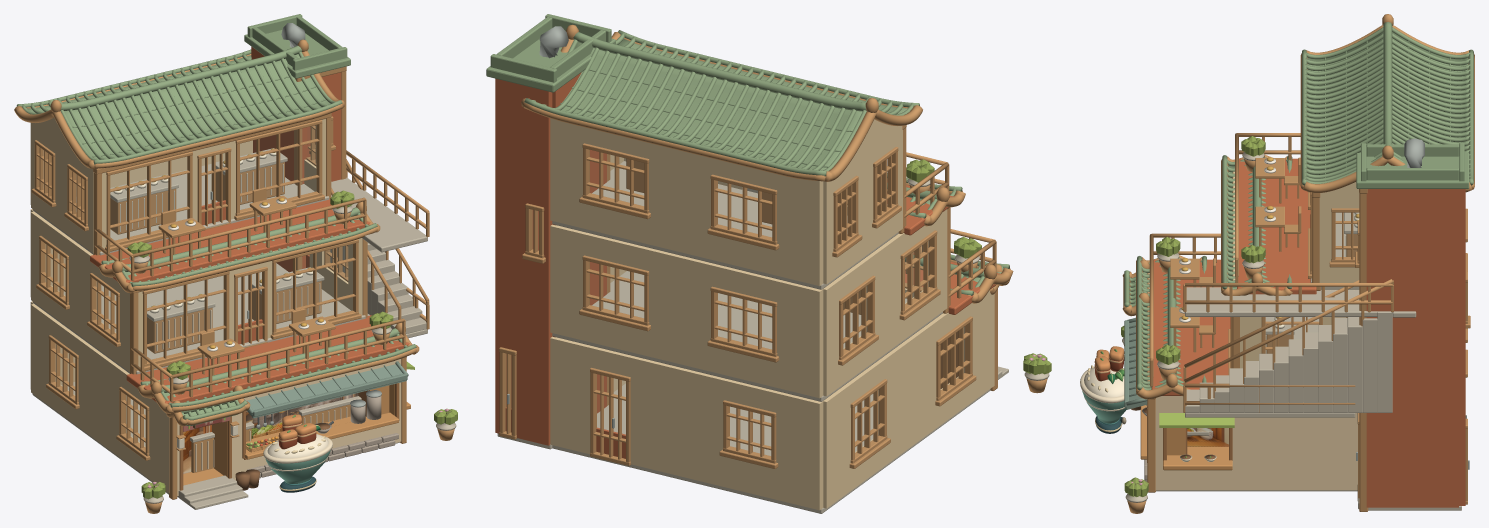
3 views of the same model, side by side, from view 1: azimuth 30°, elevation 25°; view 2: azimuth 150°, elevation 25°; view 3: azimuth 270°, elevation 25° (orthographic). The views are drawn at different scales.
Parts seen in each view (by area): view 1: SM_06_01_建筑墙体, SM_06_04_门窗楼梯, SM_06_02_曲面屋顶, SM_06_06_景观设施, SM_06_03_木构回廊, SM_06_06_门前充气招牌, SM_06_05_景观植物; view 2: SM_06_01_建筑墙体, SM_06_02_曲面屋顶, SM_06_04_门窗楼梯, SM_06_05_景观植物, SM_06_06_景观设施, SM_06_03_木构回廊; view 3: SM_06_01_建筑墙体, SM_06_02_曲面屋顶, SM_06_04_门窗楼梯, SM_06_06_景观设施, SM_06_03_木构回廊, SM_06_05_景观植物, SM_06_06_门前充气招牌.
Boxes of the visible parts, left/top/right/bottom form: SM_06_01_建筑墙体: left=30, top=46, right=409, bottom=496; SM_06_04_门窗楼梯: left=31, top=116, right=429, bottom=509; SM_06_02_曲面屋顶: left=14, top=14, right=419, bottom=426; SM_06_06_景观设施: left=110, top=23, right=410, bottom=490; SM_06_03_木构回廊: left=93, top=66, right=406, bottom=499; SM_06_06_门前充气招牌: left=263, top=414, right=332, bottom=492; SM_06_05_景观植物: left=127, top=190, right=457, bottom=513; SM_06_01_建筑墙体: left=495, top=72, right=1001, bottom=513; SM_06_02_曲面屋顶: left=486, top=14, right=1013, bottom=303; SM_06_04_门窗楼梯: left=499, top=143, right=1008, bottom=468; SM_06_05_景观植物: left=906, top=159, right=1051, bottom=393; SM_06_06_景观设施: left=539, top=26, right=920, bottom=314; SM_06_03_木构回廊: left=607, top=125, right=997, bottom=405; SM_06_01_建筑墙体: left=1144, top=158, right=1465, bottom=510; SM_06_02_曲面屋顶: left=1122, top=14, right=1474, bottom=427; SM_06_04_门窗楼梯: left=1147, top=133, right=1470, bottom=504; SM_06_06_景观设施: left=1131, top=138, right=1424, bottom=470; SM_06_03_木构回廊: left=1147, top=172, right=1368, bottom=511; SM_06_05_景观植物: left=1121, top=136, right=1265, bottom=513; SM_06_06_门前充气招牌: left=1080, top=346, right=1126, bottom=433.
Size of the model in its own units: 10.72 by 10.68 by 10.66.
51 materials, 2 textured.
